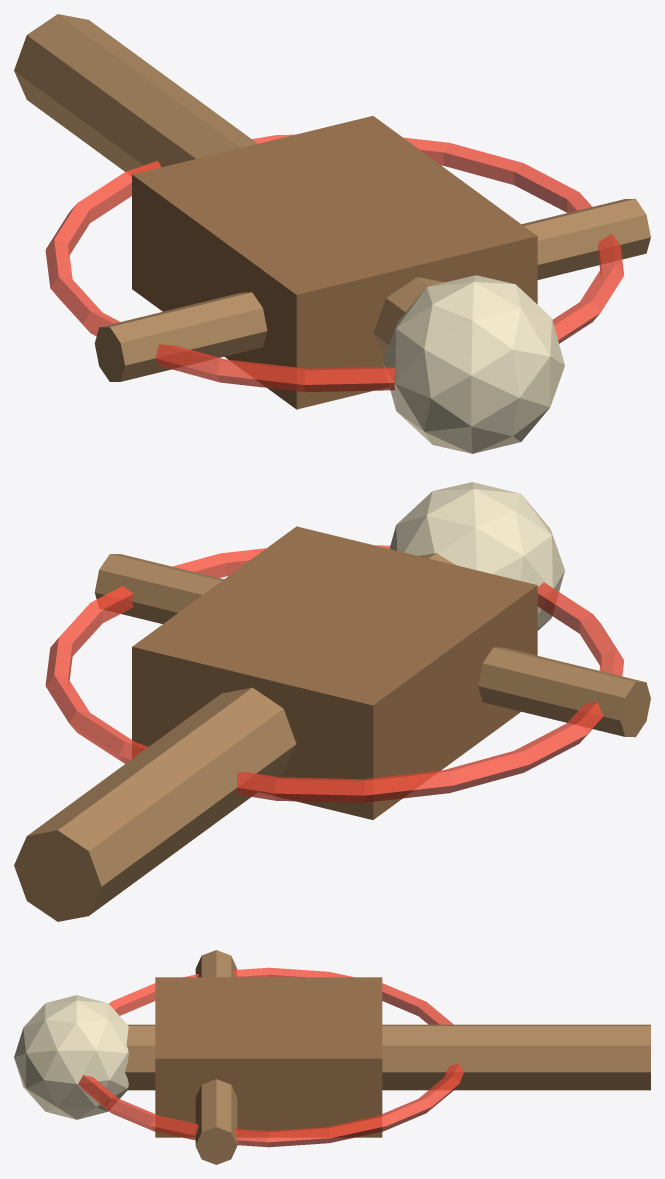
The model's file is basic_training_dummy.glb.
3 views of the same model, one above another, from view 1: azimuth 30°, elevation 25°; view 2: azimuth 150°, elevation 25°; view 3: azimuth 270°, elevation 25° (orthographic). The views are drawn at different scales.
Visible parts, largest first — view 1: dummy_torso, dummy_head, dummy_post, timing_ring, arm_bar; view 2: dummy_torso, dummy_post, timing_ring, arm_bar, dummy_head; view 3: dummy_torso, dummy_post, dummy_head, timing_ring, arm_bar.
Boxes of the visible parts, bbox=[...] form: dummy_torso: bbox=[132, 116, 537, 409]; dummy_head: bbox=[383, 275, 564, 453]; dummy_post: bbox=[14, 14, 445, 358]; timing_ring: bbox=[45, 134, 624, 392]; arm_bar: bbox=[94, 198, 650, 381]; dummy_torso: bbox=[132, 526, 537, 819]; dummy_post: bbox=[14, 553, 455, 921]; timing_ring: bbox=[45, 545, 624, 802]; arm_bar: bbox=[94, 554, 650, 737]; dummy_head: bbox=[389, 482, 564, 630]; dummy_torso: bbox=[155, 977, 382, 1137]; dummy_post: bbox=[125, 1024, 650, 1090]; dummy_head: bbox=[14, 995, 128, 1119]; timing_ring: bbox=[78, 967, 463, 1147]; arm_bar: bbox=[195, 950, 237, 1164].
Bounding box in the file's own units: 1.2 × 0.36 × 1.83.
